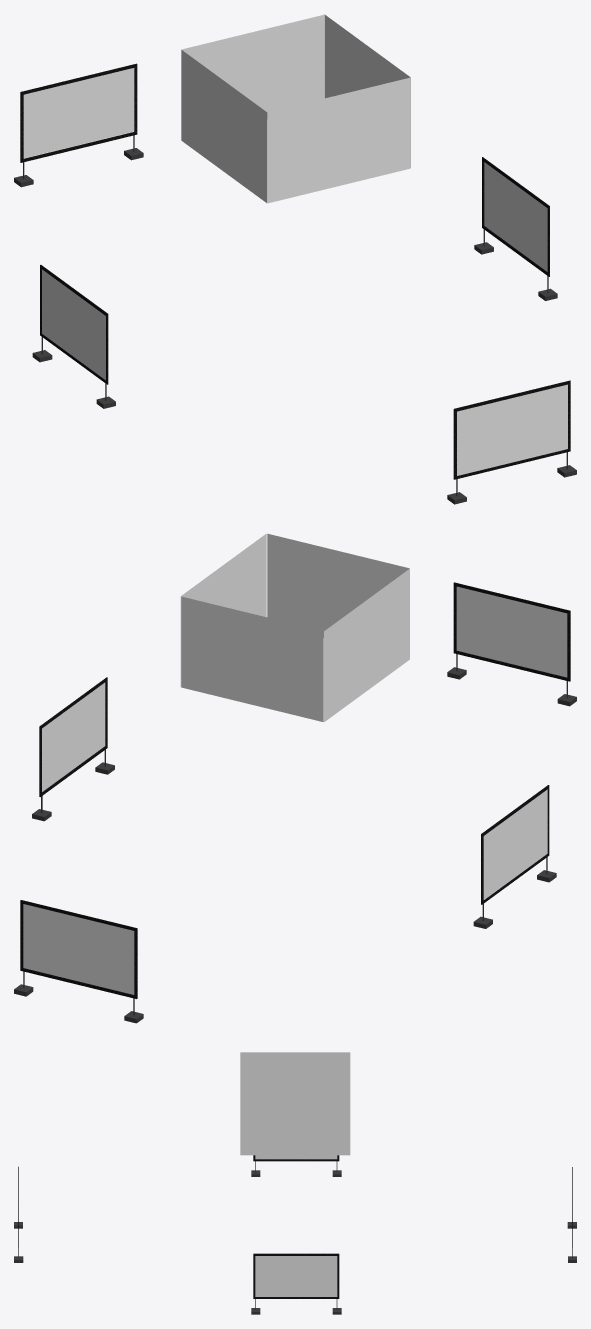
File: TokyoTower_Screen_AndroidLive.fbx
The picture shows the model from 3 angles, top to bottom: view 1: azimuth 30°, elevation 25°; view 2: azimuth 150°, elevation 25°; view 3: azimuth 270°, elevation 25°; orthographic projection. The views are drawn at different scales.
Parts seen in each view (by area): view 1: Frame__1__3; view 2: Frame__1__3; view 3: Frame__1__3.
Boxes of the visible parts, left/top/right/bottom form: Frame__1__3: left=14, top=14, right=576, bottom=504; Frame__1__3: left=14, top=533, right=576, bottom=1023; Frame__1__3: left=14, top=1052, right=576, bottom=1314.
Bounding box in the file's own units: 3047 × 1698 × 5119.
